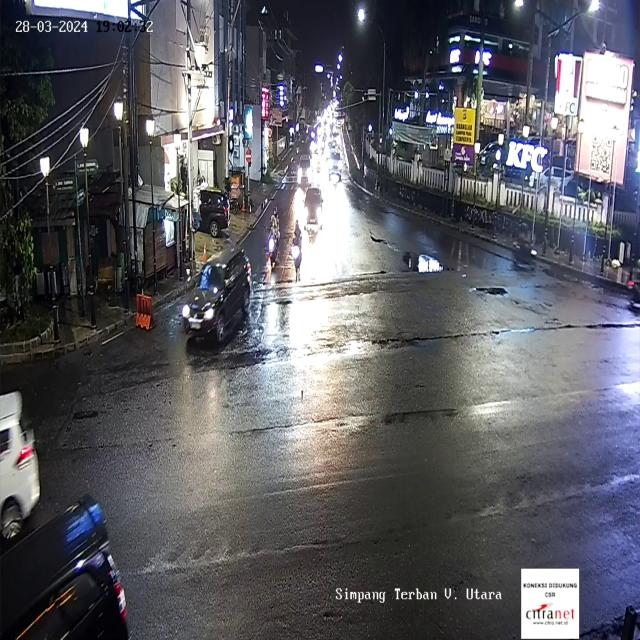car: (0, 490, 130, 640), (182, 246, 252, 352), (0, 382, 42, 545), (197, 191, 231, 237), (303, 188, 322, 233), (298, 154, 312, 186), (328, 152, 342, 184)
motorcycle: (513, 221, 537, 275), (290, 220, 303, 278), (268, 211, 278, 265)
